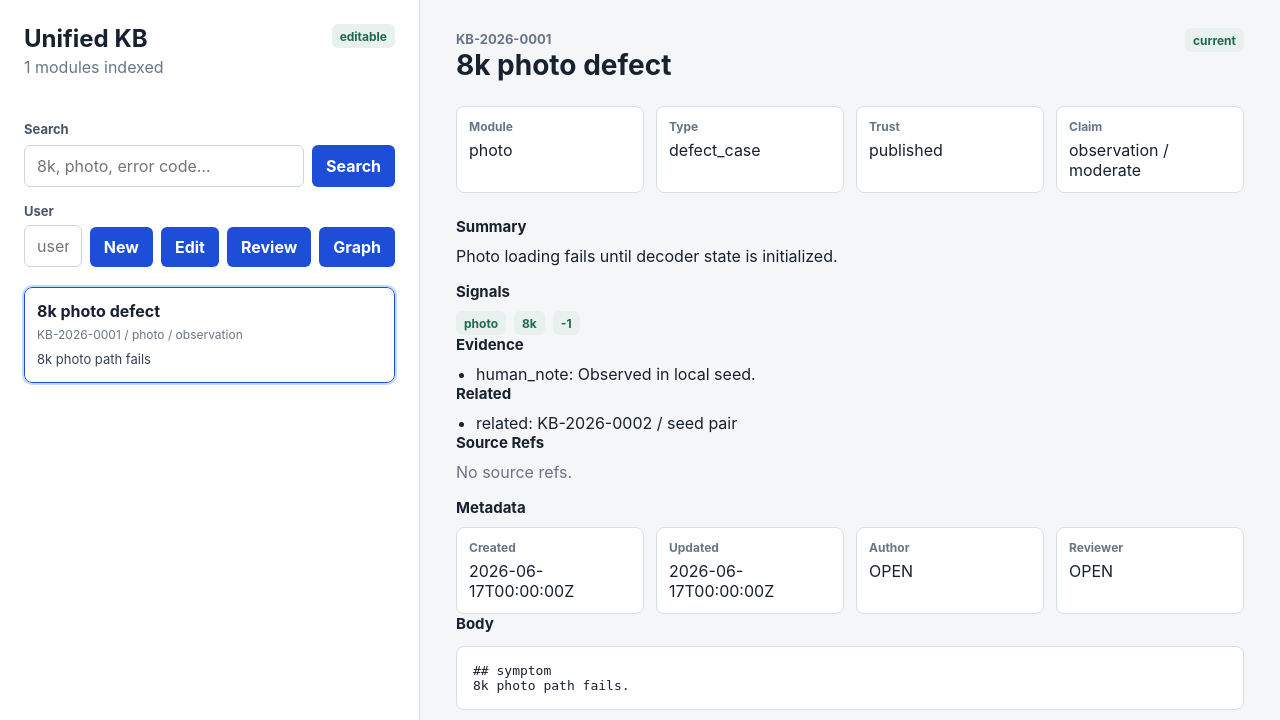
App › opens review detail and displays system-computed update diff
In the field labelled "User": (53, 246) [24,225,82,267], type "reviewer"
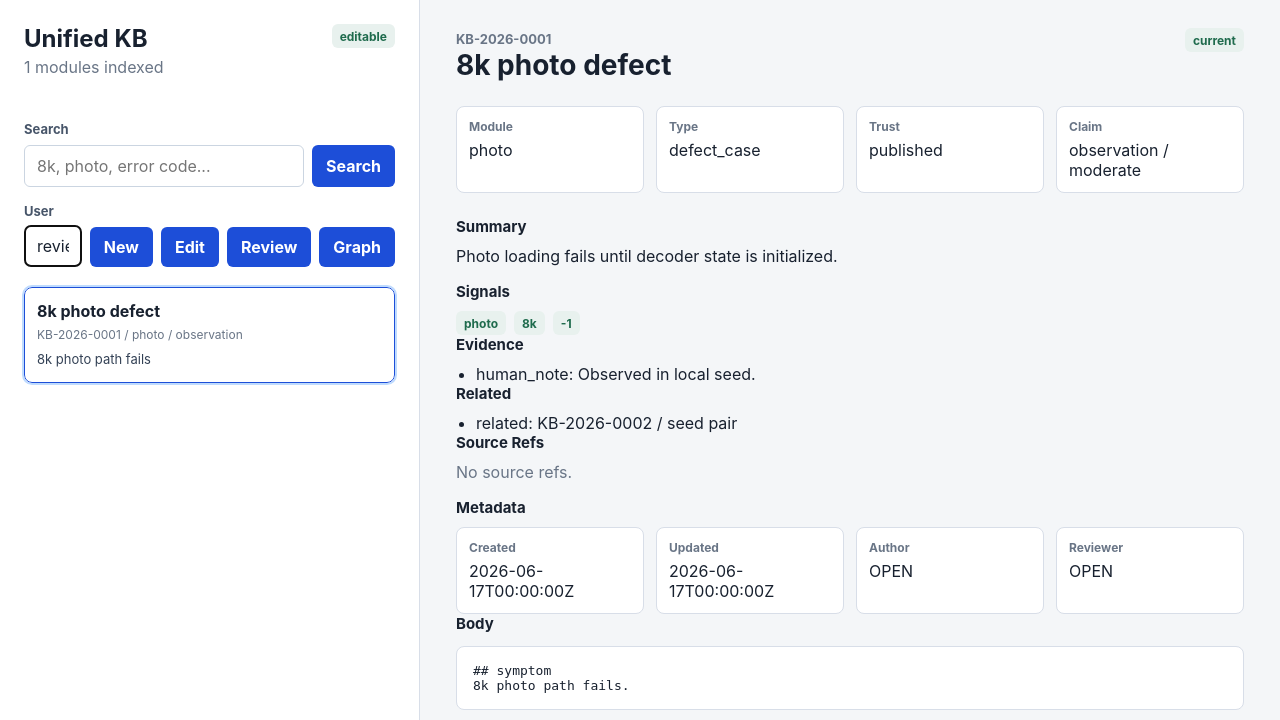
Click the button "Review": (269, 247) [227,227,311,267]
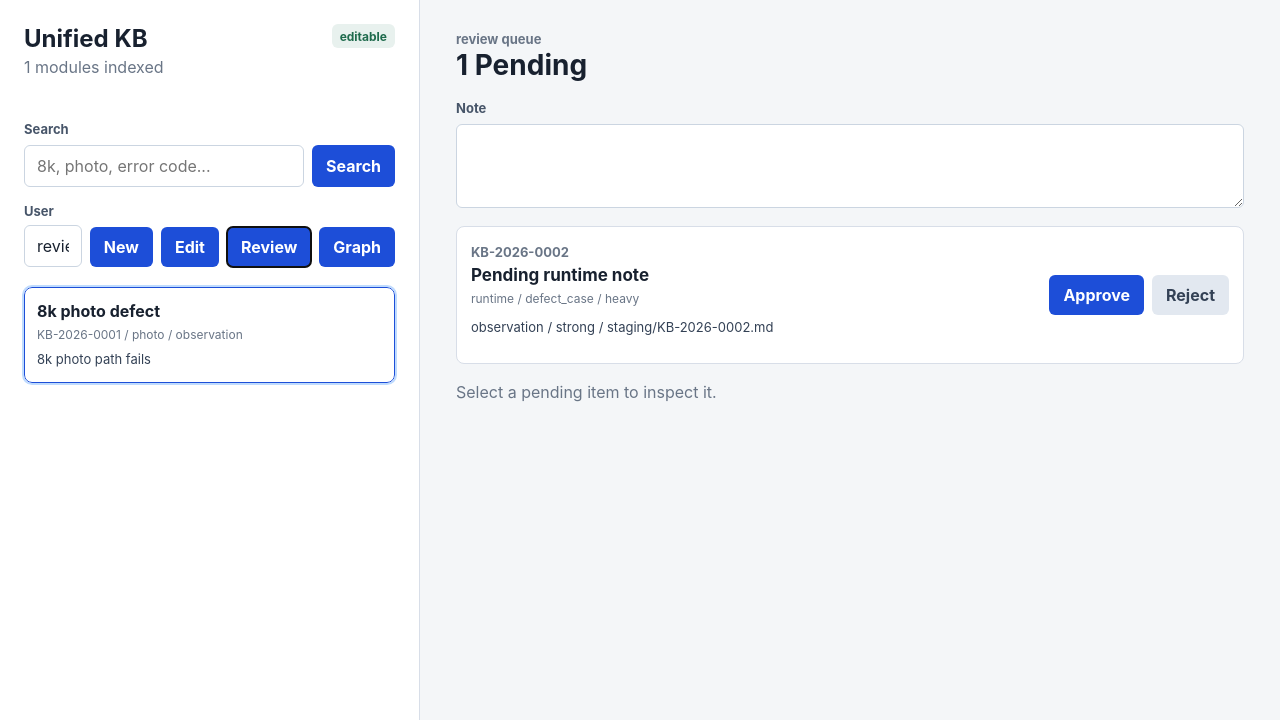
Click the button "Pending runtime note": (520, 252) [471,241,1033,349]
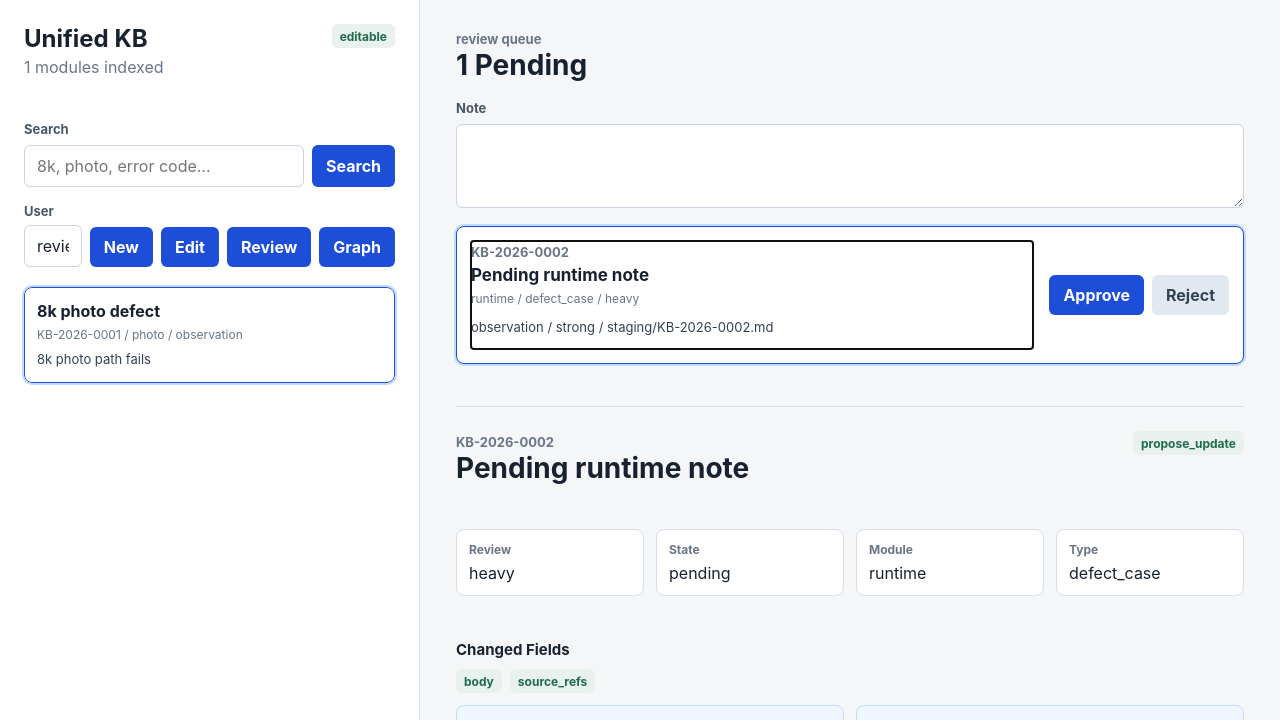
expect the text "body" is shown: met, box [456,669,502,693]
